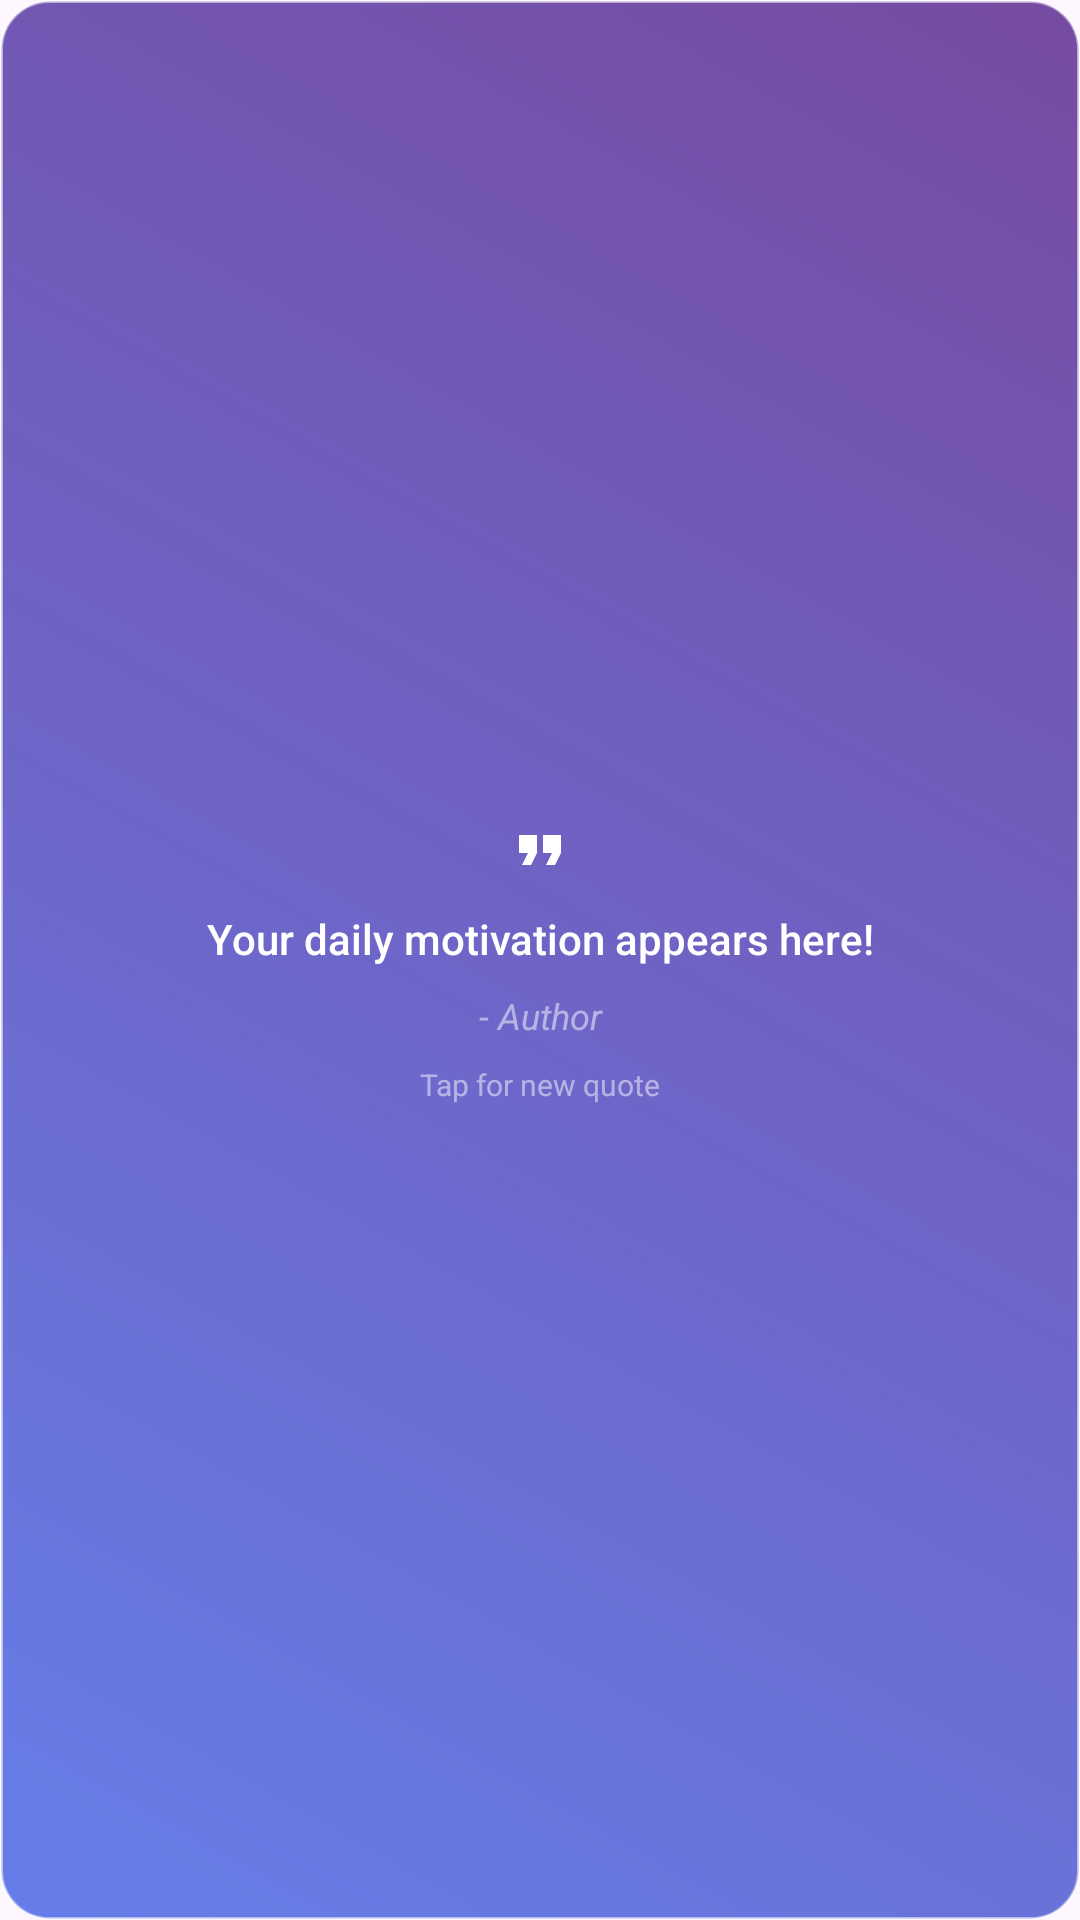

Point at icon controls on the screen. Image size 1080*1920, points as [x,y].
Quote Icon: [540,850]
